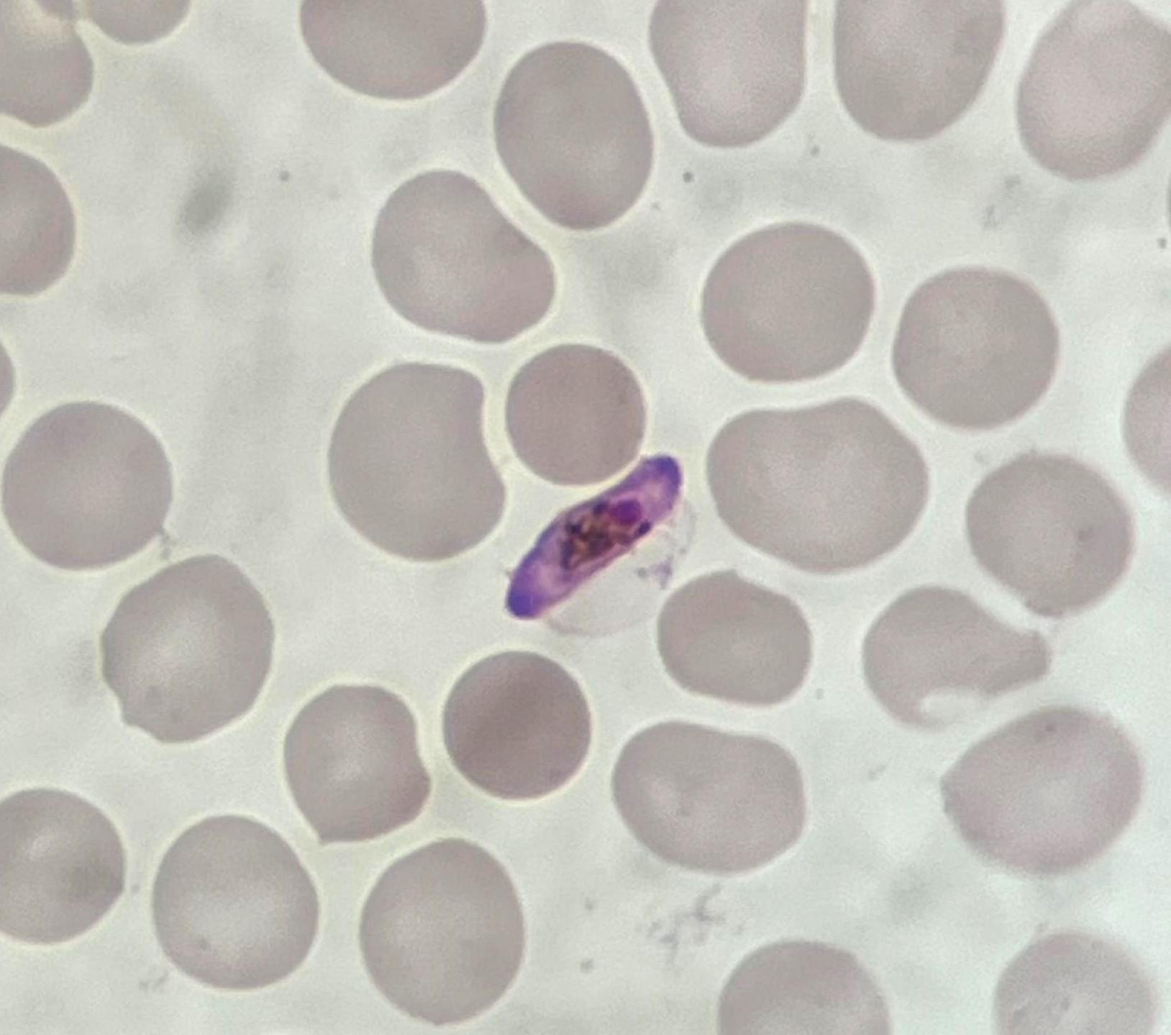Infected: (501, 453, 702, 630)
Uninfected: (705, 394, 931, 572), (327, 364, 506, 561), (940, 702, 1145, 873), (102, 552, 276, 746), (370, 164, 555, 344), (360, 836, 527, 1025), (495, 42, 657, 229), (151, 811, 321, 986), (0, 401, 171, 571), (612, 721, 800, 874), (701, 223, 878, 384), (1014, 0, 1171, 181), (858, 587, 1053, 732), (892, 266, 1063, 430), (967, 452, 1134, 617), (642, 0, 811, 148), (833, 2, 1006, 145), (281, 685, 429, 841), (439, 655, 590, 798), (655, 572, 813, 704), (505, 344, 649, 482), (0, 788, 125, 940), (994, 934, 1150, 1035)
